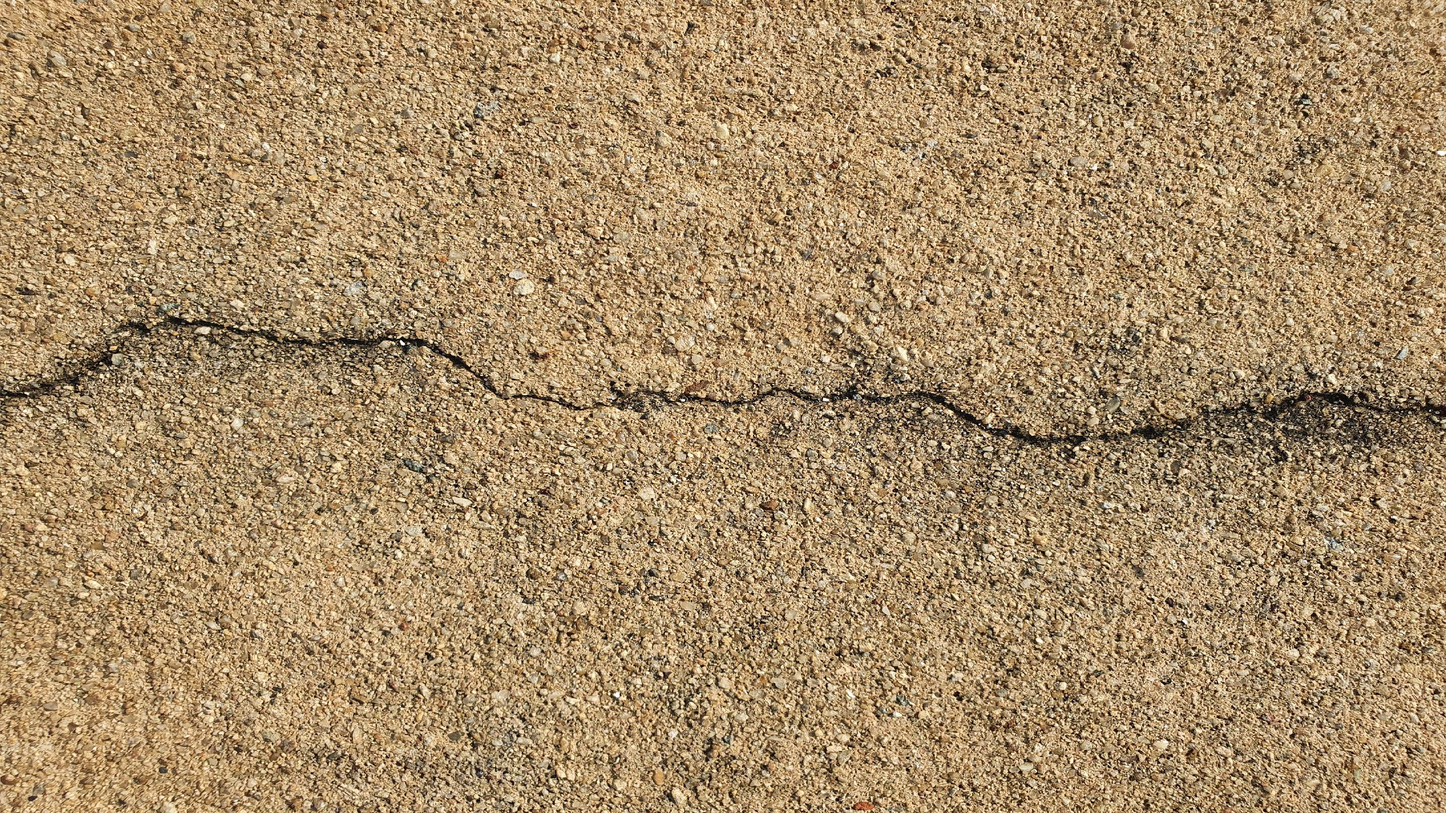crack: (0, 308, 1445, 448)
